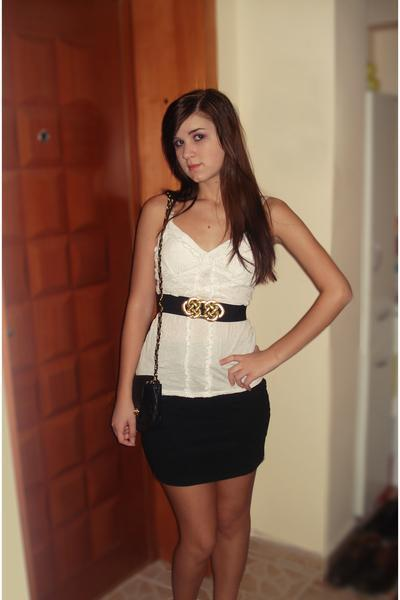bag: (132, 288, 161, 417)
shirt: (138, 228, 260, 397)
skirt: (135, 378, 269, 489)
